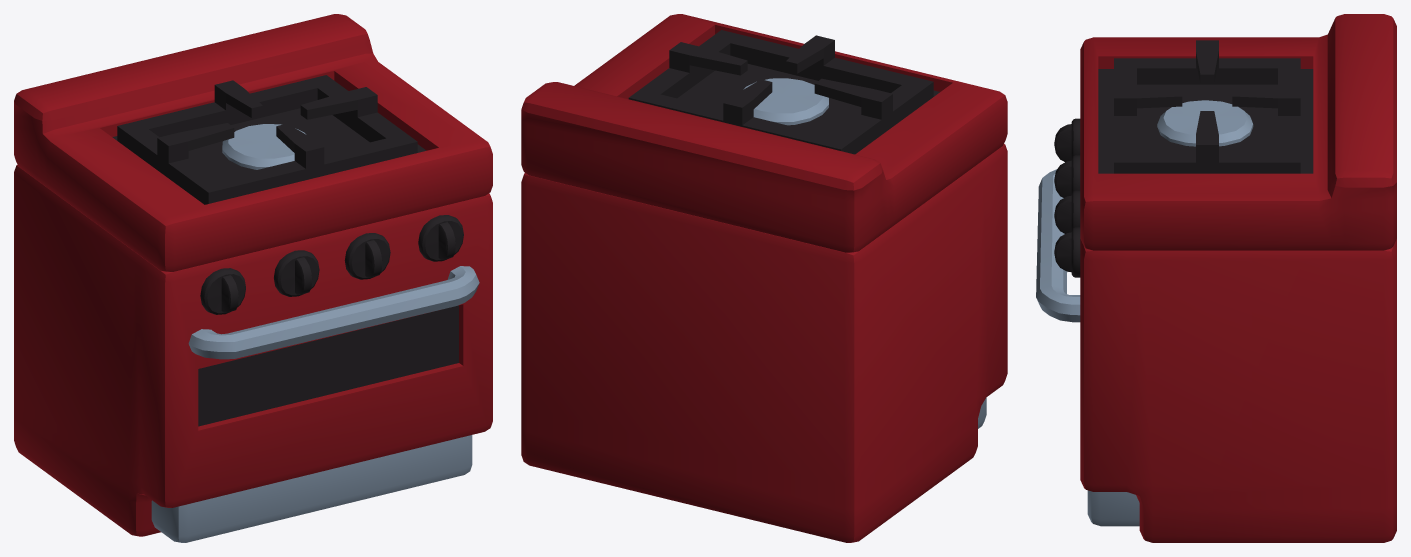
Rendered from oven.glb.
3 renders of one model, left to right at view 1: azimuth 30°, elevation 25°; view 2: azimuth 150°, elevation 25°; view 3: azimuth 270°, elevation 25°, orthographic. The views are drawn at different scales.
Parts seen in each view (by area): view 1: Environment_Oven; view 2: Environment_Oven; view 3: Environment_Oven.
Boxes of the visible parts, x1,y1,x2,y2 form: Environment_Oven: (14, 14, 492, 542); Environment_Oven: (521, 14, 1007, 542); Environment_Oven: (1036, 14, 1396, 542).
Bounding box in the file's own units: 2.14 × 2.23 × 1.96.
Materials: 1 (1 with a texture image).
